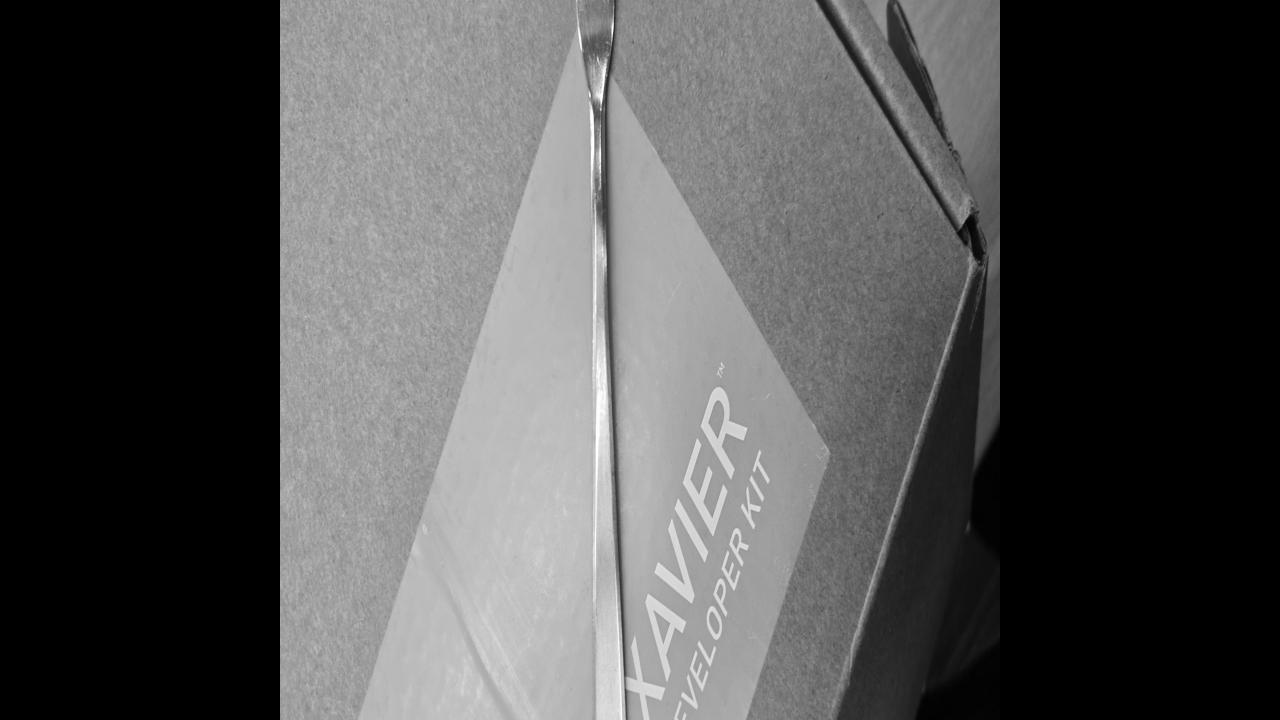fork: (572, 0, 630, 720)
